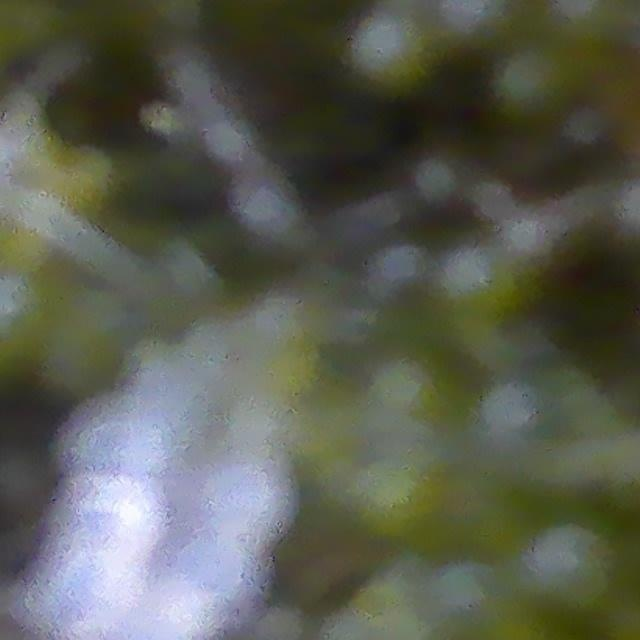SeaGrape: (518, 515, 620, 617), (341, 6, 435, 100), (66, 393, 169, 471), (433, 242, 522, 326), (491, 40, 579, 124), (420, 555, 502, 640), (75, 467, 163, 546), (177, 529, 270, 601), (61, 539, 138, 624), (0, 267, 58, 358), (432, 0, 523, 55), (210, 465, 279, 527)
